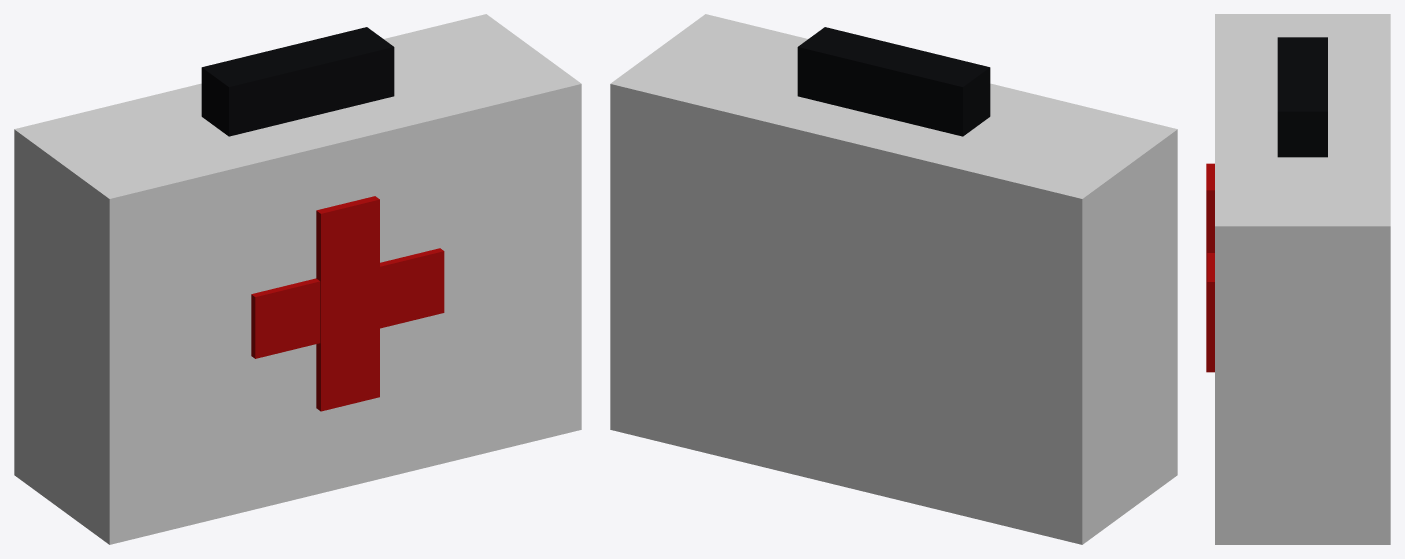
Rendered from med_kit.obj.
3 views of the same model, side by side, from view 1: azimuth 30°, elevation 25°; view 2: azimuth 150°, elevation 25°; view 3: azimuth 270°, elevation 25° (orthographic). The views are drawn at different scales.
Parts seen in each view (by area): view 1: med_kit; view 2: med_kit; view 3: med_kit.
Part boxes in pixels (x1,y1,x2,y2): med_kit: (14,14,581,544); med_kit: (610,14,1177,544); med_kit: (1206,14,1390,544).
Size of the model in its own units: 0.4 by 0.32 by 0.147.
